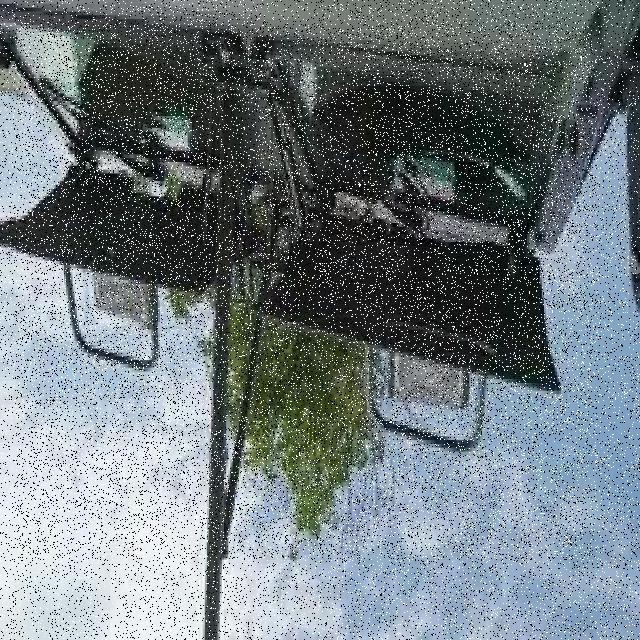MIL_MBT: (16, 23, 592, 558)
